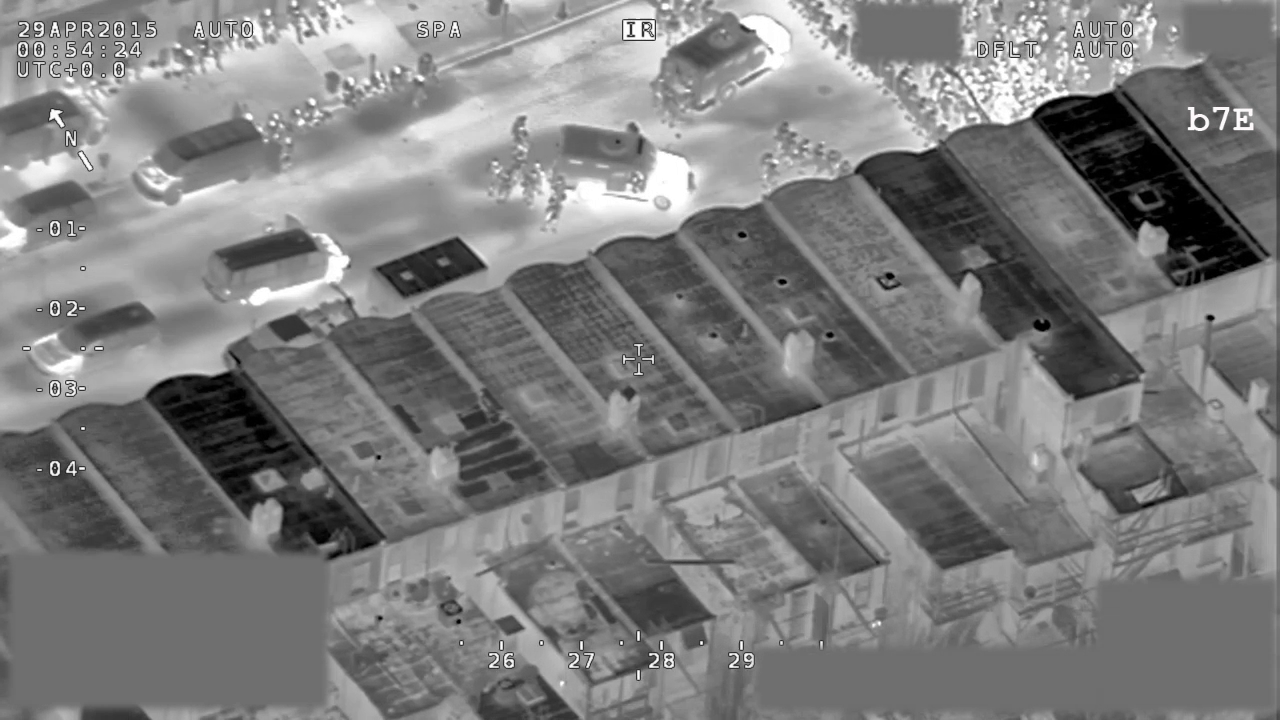vehicle: (129, 101, 282, 205), (201, 210, 354, 308), (651, 10, 793, 114), (555, 118, 700, 217), (23, 300, 163, 381), (365, 233, 490, 320), (222, 294, 354, 374), (1, 79, 106, 171), (1, 180, 102, 264)
